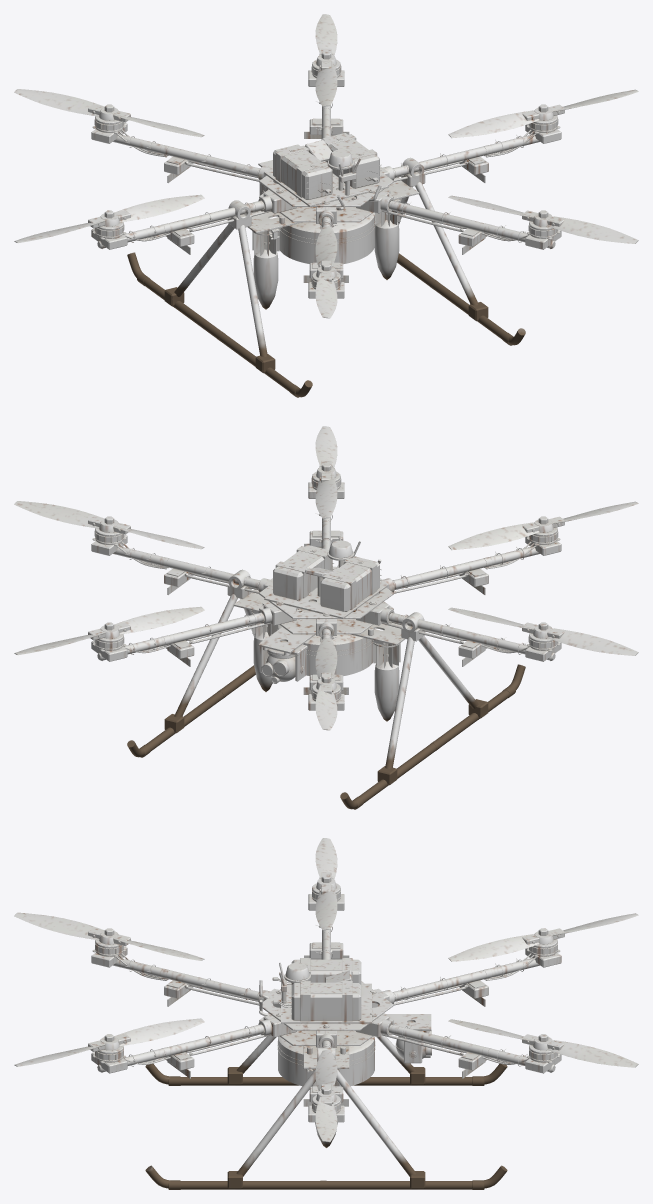
The model's file is drone-vampire-v5.glb.
3 views of the same model, one above another, from view 1: azimuth 30°, elevation 25°; view 2: azimuth 150°, elevation 25°; view 3: azimuth 270°, elevation 25° (orthographic).
Visible parts, largest first — view 1: paint_store_disc, carbon_gear_rail_l, carbon_gear_legs_l, prop_3_blades_plastic, prop_5_blades_plastic, prop_6_blades_plastic, prop_2_blades_plastic, plastic_battery_a_pack, prop_1_blades_plastic, prop_4_blades_plastic, carbon_boom_6, carbon_boom_3 (+13 smaller); view 2: paint_store_disc, carbon_gear_rail_l, carbon_gear_legs_l, prop_1_blades_plastic, prop_5_blades_plastic, prop_2_blades_plastic, prop_4_blades_plastic, plastic_battery_a_pack, prop_3_blades_plastic, prop_6_blades_plastic, carbon_boom_4, plastic_battery_b_pack (+16 smaller); view 3: carbon_gear_rail_r, carbon_gear_rail_l, paint_store_disc, carbon_gear_legs_r, plastic_battery_b_pack, prop_3_blades_plastic, prop_1_blades_plastic, prop_4_blades_plastic, prop_6_blades_plastic, prop_2_blades_plastic, prop_5_blades_plastic, carbon_boom_6 (+13 smaller).
Boxes of the visible parts, x1,y1,x2,y2 form: paint_store_disc: (279, 212, 374, 263); carbon_gear_rail_l: (127, 252, 312, 397); carbon_gear_legs_l: (174, 224, 267, 356); prop_3_blades_plastic: (448, 195, 638, 243); prop_5_blades_plastic: (14, 194, 204, 243); prop_6_blades_plastic: (14, 89, 204, 137); prop_2_blades_plastic: (448, 89, 638, 138); plastic_battery_a_pack: (273, 144, 332, 199); prop_1_blades_plastic: (315, 14, 337, 106); prop_4_blades_plastic: (315, 226, 337, 318); carbon_boom_6: (113, 134, 259, 176); carbon_boom_3: (388, 200, 549, 248); paint_store_disc: (278, 624, 373, 675); carbon_gear_rail_l: (340, 664, 525, 809); carbon_gear_legs_l: (385, 636, 478, 768); prop_1_blades_plastic: (14, 606, 204, 655); prop_5_blades_plastic: (448, 607, 638, 655); prop_2_blades_plastic: (14, 501, 204, 549); prop_4_blades_plastic: (448, 501, 638, 550); plastic_battery_a_pack: (320, 556, 379, 611); prop_3_blades_plastic: (315, 426, 337, 518); prop_6_blades_plastic: (315, 638, 337, 730); carbon_boom_4: (393, 546, 539, 588); plastic_battery_b_pack: (273, 545, 332, 600); carbon_gear_rail_r: (145, 1165, 507, 1189); carbon_gear_rail_l: (145, 1063, 507, 1085); paint_store_disc: (278, 1030, 374, 1086); carbon_gear_legs_r: (236, 1069, 416, 1176); plastic_battery_b_pack: (291, 983, 361, 1020); prop_3_blades_plastic: (14, 1018, 204, 1066); prop_1_blades_plastic: (448, 1019, 638, 1067); prop_4_blades_plastic: (14, 912, 204, 960); prop_6_blades_plastic: (448, 913, 638, 961); prop_2_blades_plastic: (315, 1050, 337, 1142); prop_5_blades_plastic: (315, 838, 337, 930); carbon_boom_6: (392, 958, 539, 1000).
Bounding box in the file's own units: 2.36 × 0.6212 × 2.06.
Materials: 1 (1 with a texture image).
